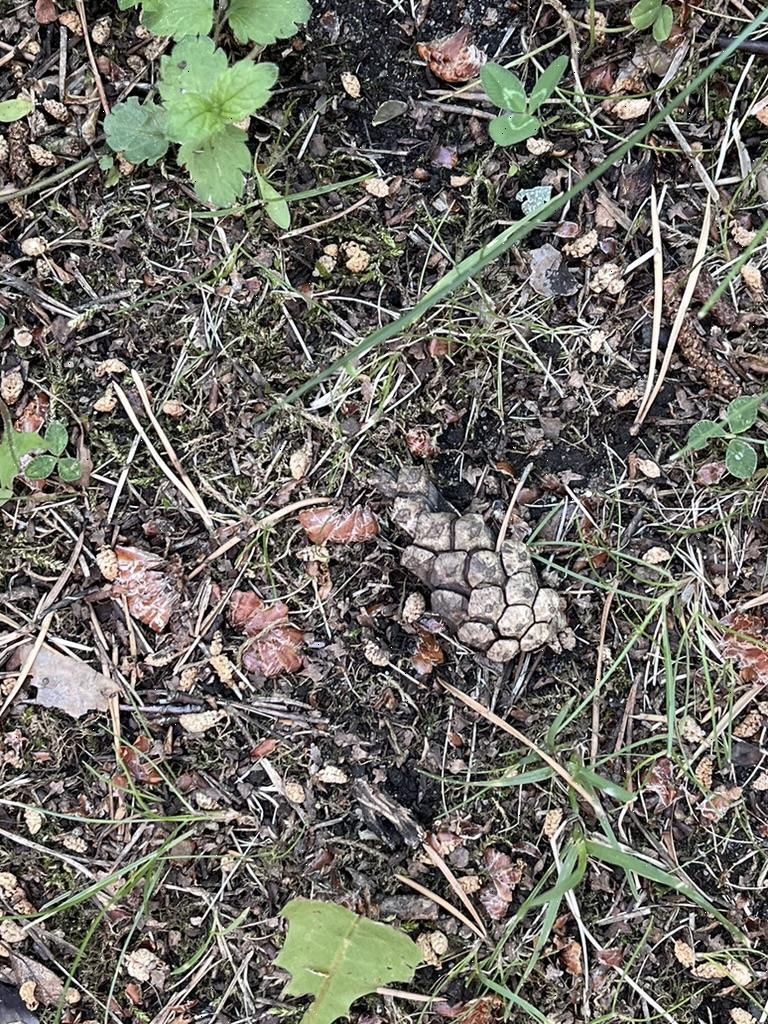pine: (381, 470, 606, 688)
